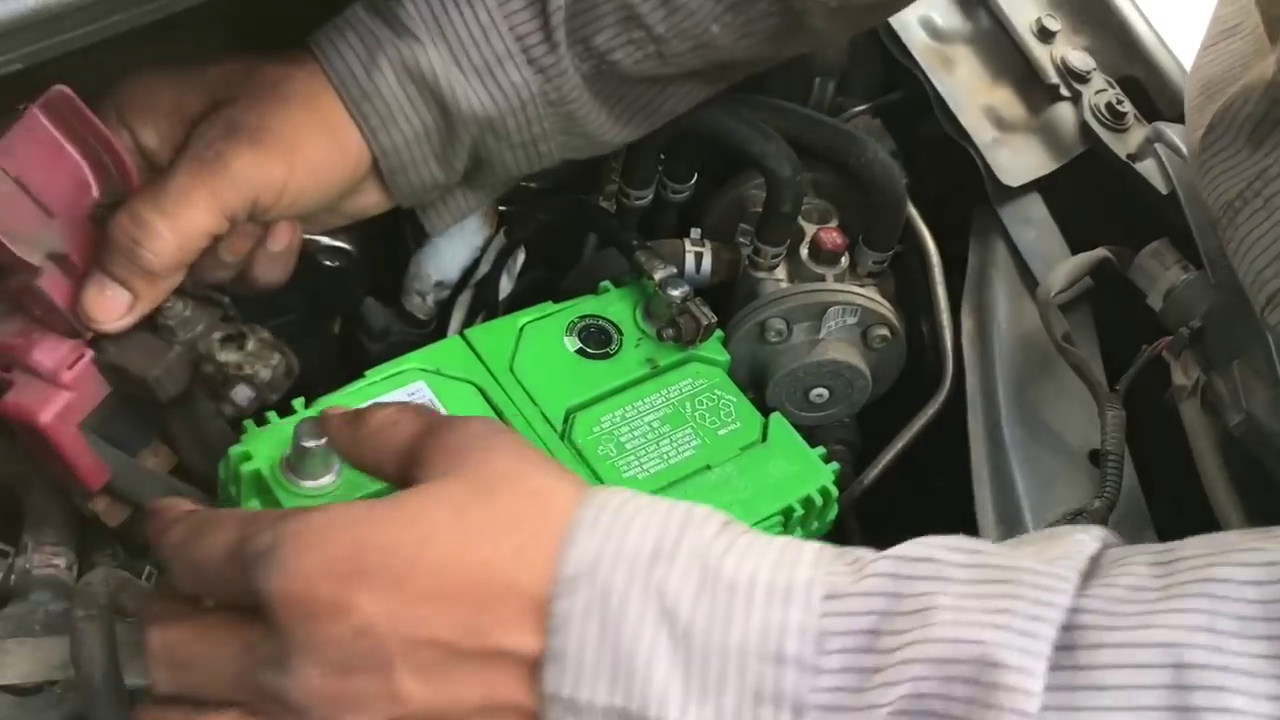battery: (220, 247, 845, 519)
neg_connected: (601, 214, 729, 367)
pos_disconnected: (1, 170, 379, 507)
pos_touched: (17, 184, 424, 538)
